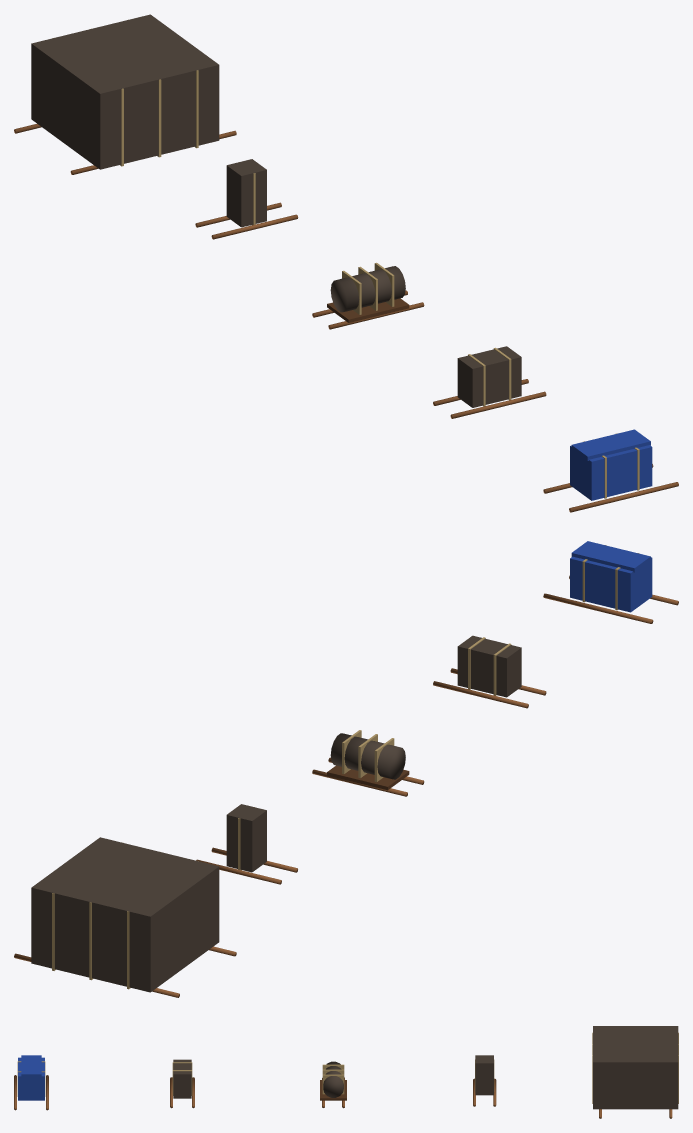
Rendered from loads.glb.
3 renders of one model, top to bottom at view 1: azimuth 30°, elevation 25°; view 2: azimuth 150°, elevation 25°; view 3: azimuth 270°, elevation 25°, orthographic. The views are drawn at different scales.
Visible parts, largest first — view 1: load_altar__n2_sealskin, load_ark__n2_blue_cloth, load_table__n2_sealskin, load_incense__n2_sealskin, load_lampstand__n2_sealskin, load_lampstand__n2_wood_dark, load_altar__n2_rope, load_ark__n2_wood, load_lampstand__n2_rope; view 2: load_altar__n2_sealskin, load_ark__n2_blue_cloth, load_table__n2_sealskin, load_incense__n2_sealskin, load_lampstand__n2_sealskin, load_lampstand__n2_wood_dark, load_ark__n2_wood, load_lampstand__n2_rope, load_altar__n2_rope, load_table__n2_wood; view 3: load_altar__n2_sealskin, load_ark__n2_blue_cloth, load_incense__n2_sealskin, load_table__n2_sealskin, load_lampstand__n2_sealskin, load_lampstand__n2_rope, load_lampstand__n2_wood_dark, load_ark__n2_wood, load_table__n2_rope, load_table__n2_wood.
Boxes of the visible parts, x1,y1,x2,y2 form: load_altar__n2_sealskin: (31, 14, 219, 169); load_ark__n2_blue_cloth: (570, 429, 652, 500); load_table__n2_sealskin: (457, 346, 521, 407); load_incense__n2_sealskin: (226, 159, 266, 227); load_lampstand__n2_sealskin: (330, 266, 405, 312); load_lampstand__n2_wood_dark: (327, 298, 409, 322); load_altar__n2_rope: (91, 28, 198, 166); load_ark__n2_wood: (543, 464, 678, 512); load_lampstand__n2_rope: (342, 262, 394, 314); load_altar__n2_sealskin: (31, 837, 219, 992); load_ark__n2_blue_cloth: (570, 541, 652, 612); load_table__n2_sealskin: (457, 635, 521, 697); load_incense__n2_sealskin: (226, 804, 266, 872); load_lampstand__n2_sealskin: (330, 733, 405, 779); load_lampstand__n2_wood_dark: (327, 765, 409, 790); load_ark__n2_wood: (543, 575, 678, 623); load_lampstand__n2_rope: (342, 730, 394, 782); load_altar__n2_rope: (52, 842, 198, 989); load_table__n2_wood: (433, 668, 546, 708); load_altar__n2_sealskin: (593, 1026, 678, 1109); load_ark__n2_blue_cloth: (18, 1055, 44, 1100); load_incense__n2_sealskin: (475, 1055, 493, 1095); load_table__n2_sealskin: (173, 1059, 191, 1098); load_lampstand__n2_sealskin: (323, 1061, 343, 1097); load_lampstand__n2_rope: (322, 1064, 344, 1094); load_lampstand__n2_wood_dark: (320, 1080, 346, 1100); load_ark__n2_wood: (14, 1075, 48, 1110); load_table__n2_rope: (172, 1062, 192, 1095); load_table__n2_wood: (170, 1077, 194, 1108).
Bounding box in the file's own units: 7 × 3.28 × 39.62.
